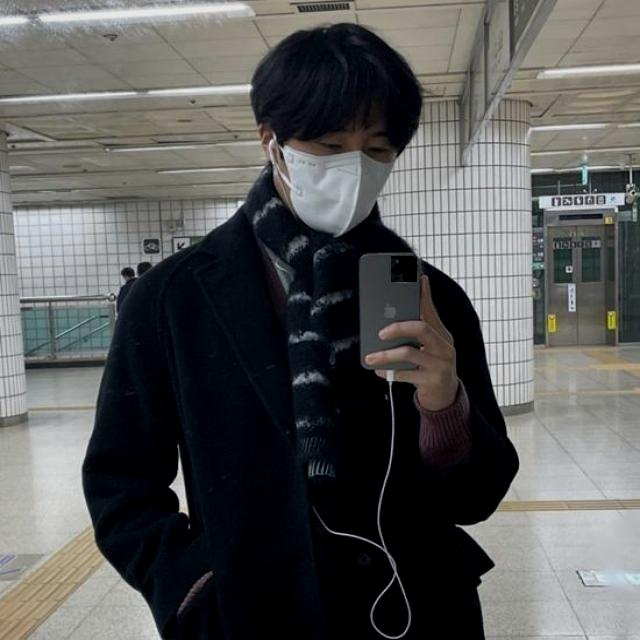lens: (392, 257, 418, 283)
phone: (359, 248, 426, 373)
